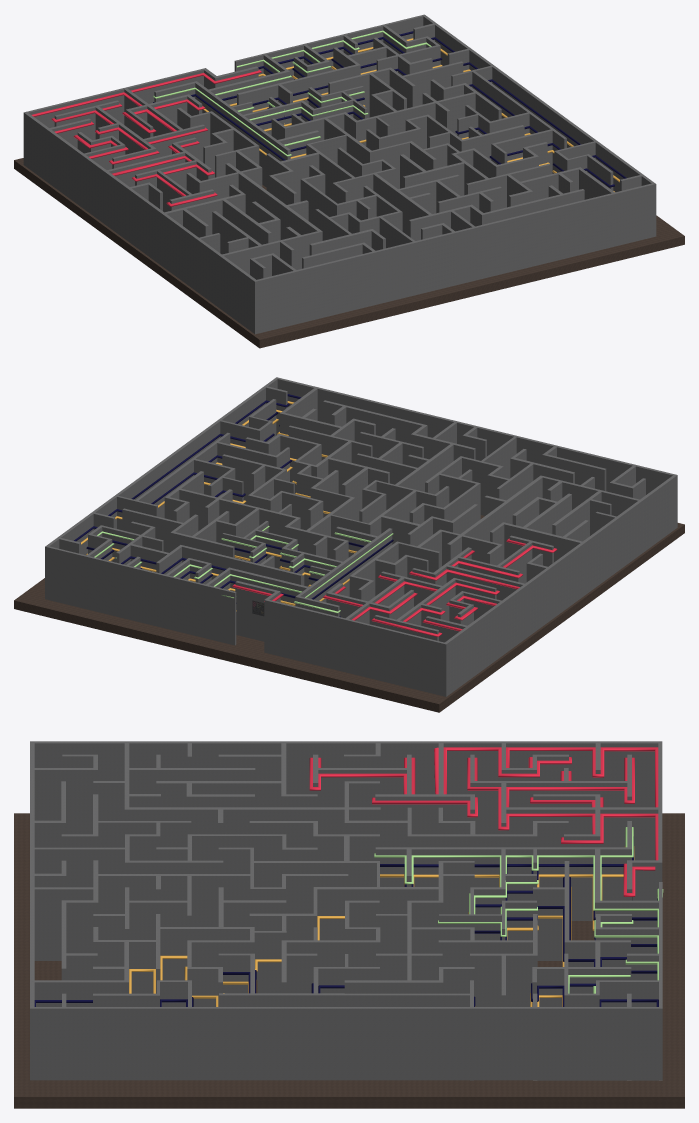
File: MazeCompletedWithLeaver.fbx
3 views of the same model, one above another, from view 1: azimuth 30°, elevation 25°; view 2: azimuth 150°, elevation 25°; view 3: azimuth 270°, elevation 25° (orthographic). The views are drawn at different scales.
Parts seen in each view (by area): view 1: Cube.333, Cube.037, Cube.019, Plane, Plane.003, Cube.015, Cube.042, Cube.025, Cube.024, Cube.014, Cube.007, Cube.010 (+56 smaller); view 2: Cube.333, Cube.055, Cube.049, Plane, Cube.058, Plane.003, Cube.267, Cube.282, Cube.269, Cube.014, Cube.007, Cube.010 (+59 smaller); view 3: Cube.333, Cube.046, Cube.045, Plane, Cube.262, Cube.259, Cube.134, Plane.003, Plane.001, Cube.137, Cube.007, Cube.213 (+107 smaller).
Part boxes in pixels (left/top/right/bottom): Cube.333: left=14, top=158, right=684, bottom=348; Cube.037: left=475, top=193, right=613, bottom=279; Cube.019: left=297, top=251, right=374, bottom=323; Plane: left=32, top=69, right=261, bottom=206; Plane.003: left=153, top=31, right=626, bottom=187; Cube.015: left=257, top=270, right=298, bottom=333; Cube.042: left=615, top=183, right=656, bottom=245; Cube.025: left=415, top=231, right=456, bottom=294; Cube.024: left=376, top=241, right=416, bottom=304; Cube.014: left=220, top=256, right=258, bottom=334; Cube.007: left=126, top=187, right=163, bottom=265; Cube.010: left=161, top=212, right=198, bottom=290; Cube.333: left=14, top=515, right=684, bottom=712; Cube.055: left=343, top=618, right=444, bottom=695; Cube.049: left=264, top=599, right=344, bottom=671; Plane: left=232, top=538, right=557, bottom=636; Cube.058: left=164, top=575, right=205, bottom=637; Plane.003: left=74, top=394, right=393, bottom=617; Cube.267: left=47, top=546, right=85, bottom=608; Cube.282: left=127, top=566, right=165, bottom=627; Cube.269: left=88, top=556, right=125, bottom=618; Cube.014: left=640, top=474, right=677, bottom=552; Cube.007: left=546, top=543, right=583, bottom=621; Cube.010: left=581, top=517, right=618, bottom=595; Cube.333: left=14, top=813, right=684, bottom=1108; Cube.046: left=192, top=1007, right=473, bottom=1080; Cube.045: left=66, top=1007, right=191, bottom=1080; Plane: left=309, top=747, right=658, bottom=896; Cube.262: left=537, top=1007, right=626, bottom=1080; Cube.259: left=474, top=1007, right=537, bottom=1080; Cube.134: left=34, top=768, right=97, bottom=834; Plane.003: left=34, top=836, right=658, bottom=1006; Plane.001: left=374, top=827, right=663, bottom=993; Cube.137: left=34, top=847, right=124, bottom=887; Cube.007: left=286, top=741, right=380, bottom=794; Cube.213: left=533, top=847, right=594, bottom=920.
Size of the model in its own units: 14105 by 1964 by 14105.
20 materials, 3 textured.
